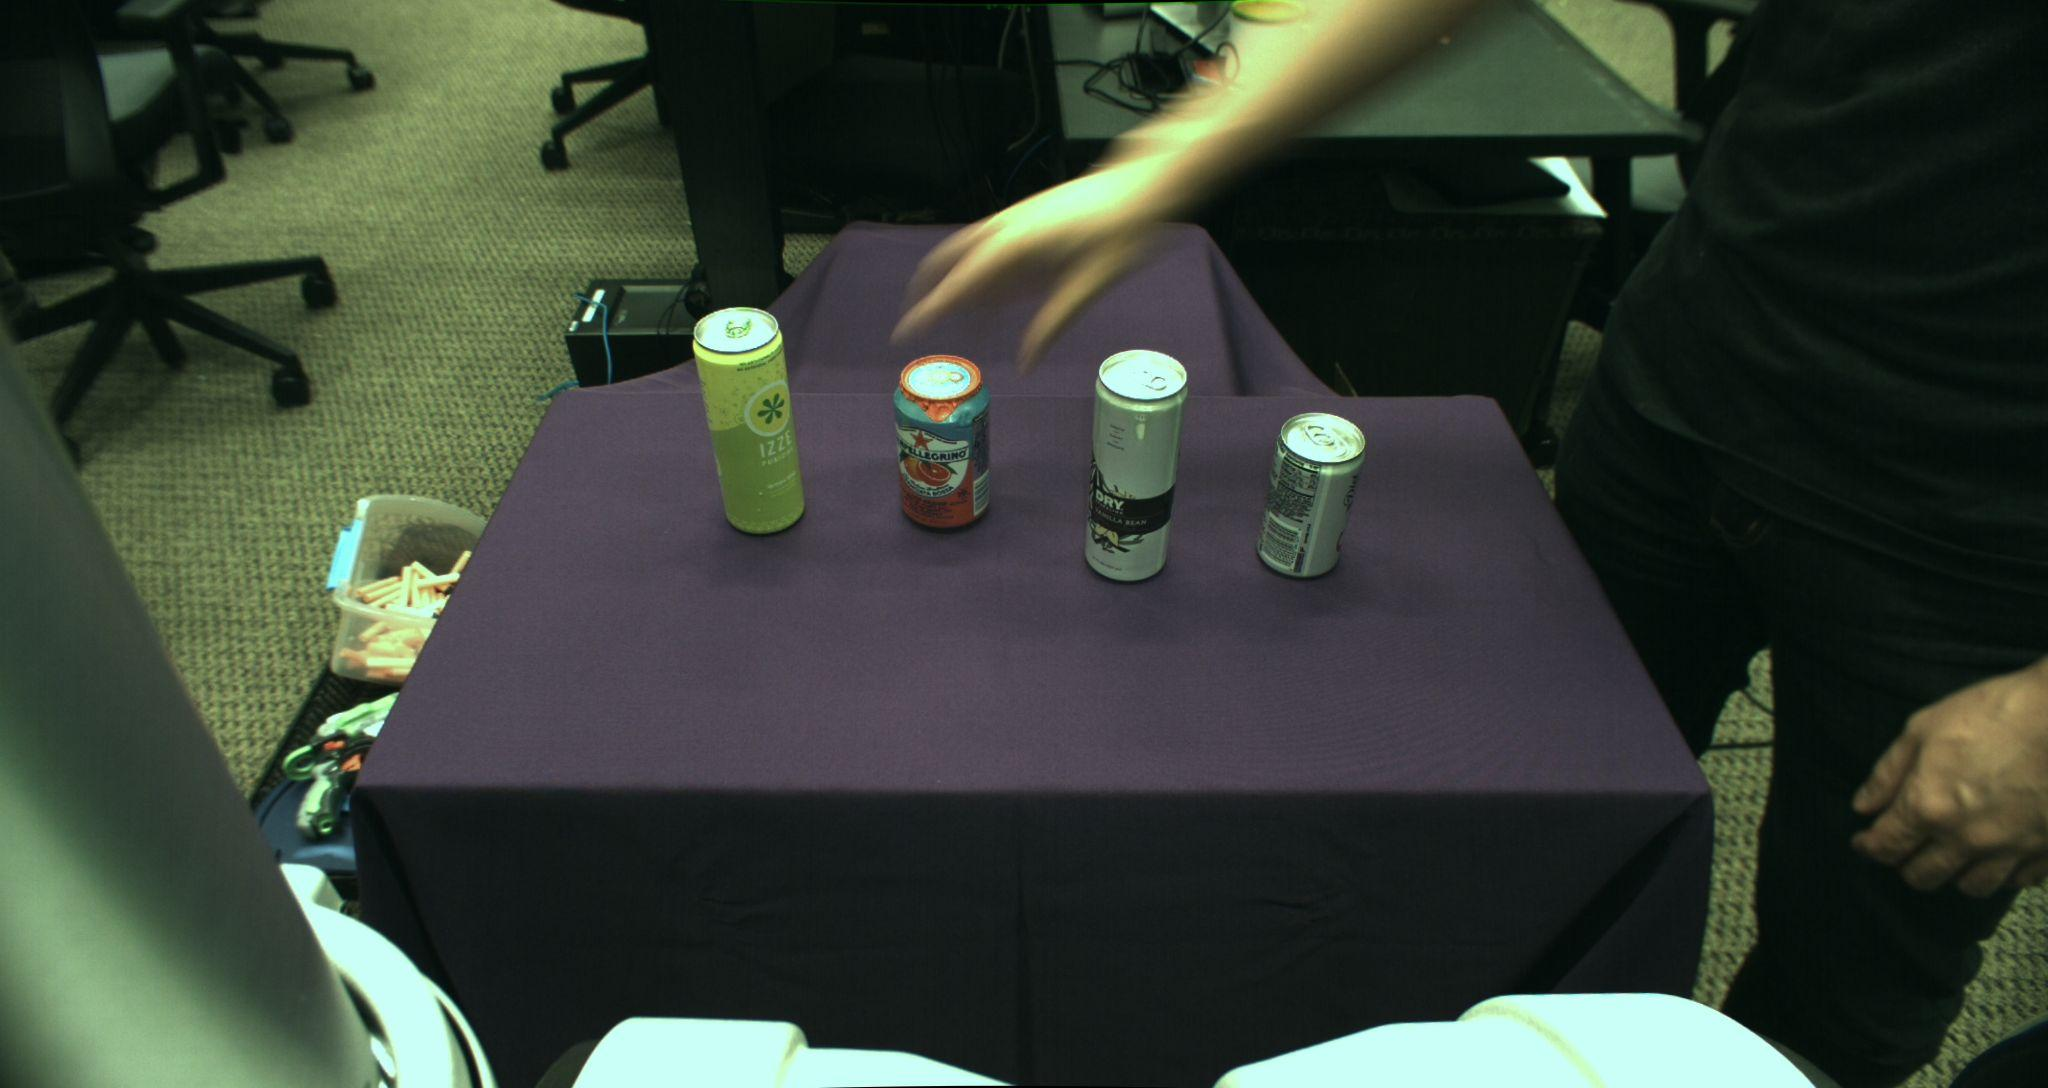can_diet_coke_small: (1257, 411, 1367, 580)
can_dry_sparkling_vanilla_bean: (1085, 350, 1187, 583)
can_izze_fusions_lemon_lime: (694, 308, 806, 537)
can_sanpellegrino_blood_orange: (894, 356, 991, 528)
